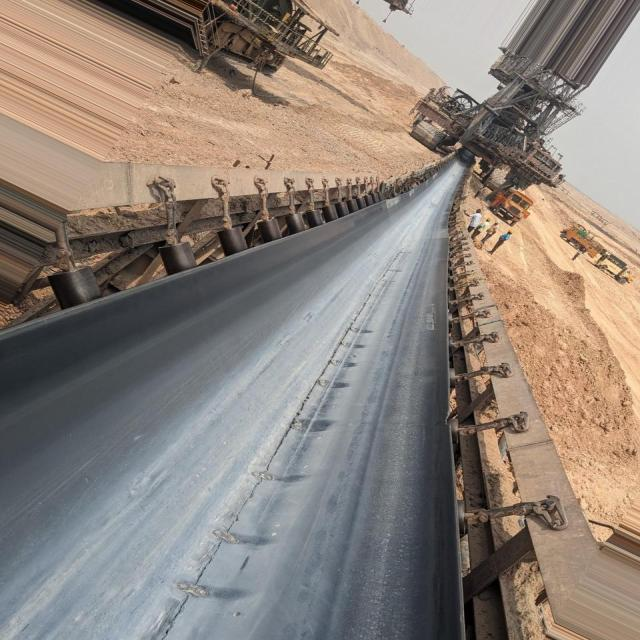Human: (487, 229, 511, 254), (463, 210, 483, 236), (480, 220, 499, 245), (471, 216, 490, 238)
Roller: (48, 192, 377, 310)
patch work: (171, 249, 405, 610)
